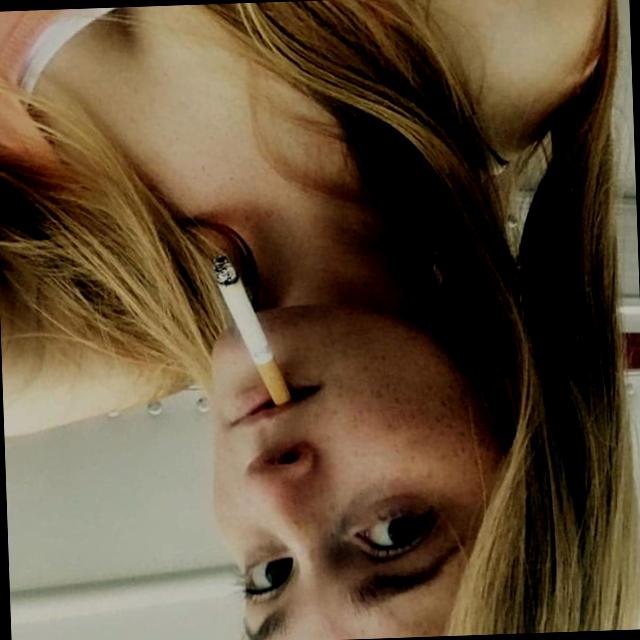smoke: (212, 248, 296, 412)
